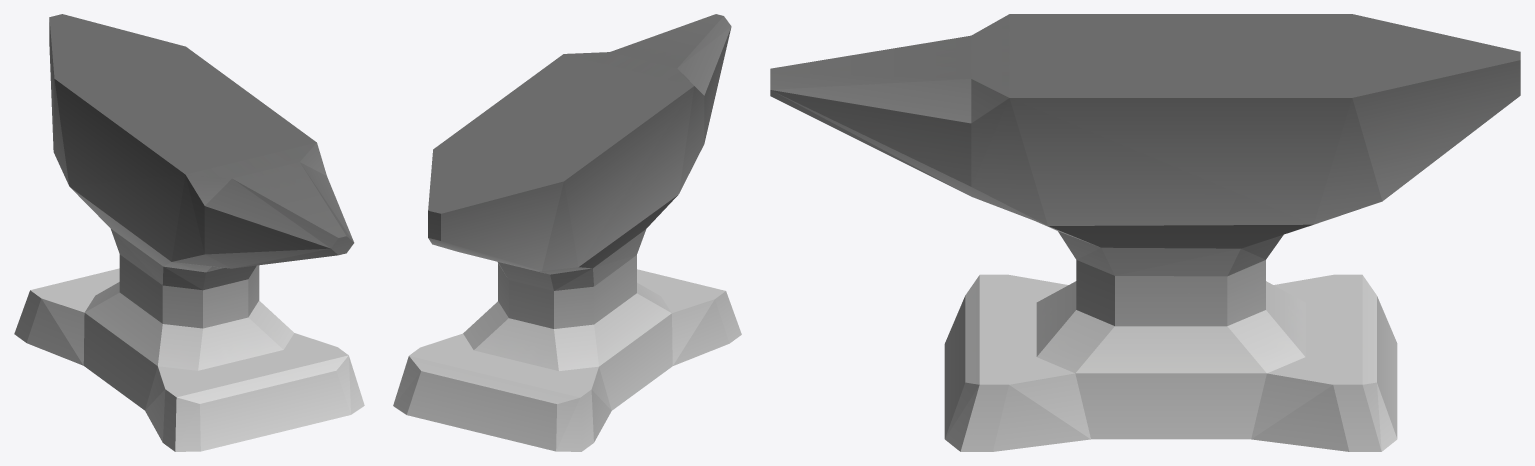
File: anvil.glb
The picture shows the model from 3 angles, left to right: view 1: azimuth 30°, elevation 25°; view 2: azimuth 150°, elevation 25°; view 3: azimuth 270°, elevation 25°; orthographic projection. The views are drawn at different scales.
Parts seen in each view (by area): view 1: Anvil; view 2: Anvil; view 3: Anvil.
Part boxes in pixels (x1=…): Anvil: x1=14, y1=14, x2=364, y2=451; Anvil: x1=393, y1=14, x2=741, y2=451; Anvil: x1=770, y1=14, x2=1520, y2=451.
Size of the model in its own units: 0.4702 by 0.6082 by 1.23.
Materials: 1 (1 with a texture image).
